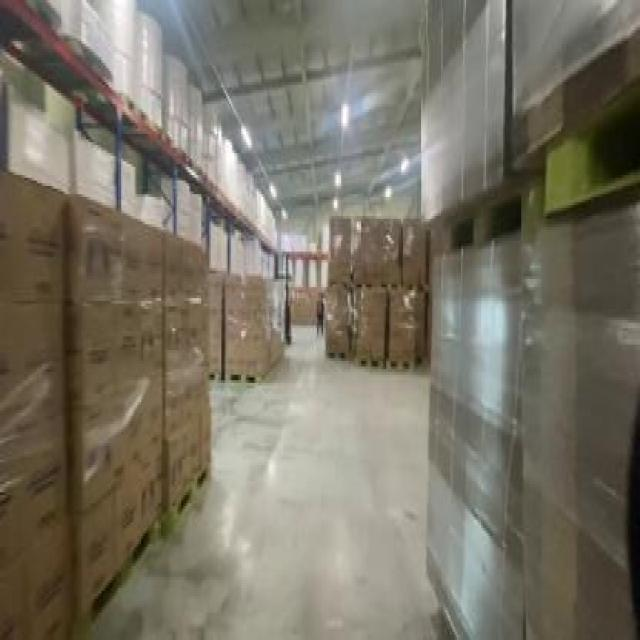box: (423, 211, 639, 637), (412, 3, 637, 216), (2, 159, 98, 629), (66, 205, 166, 596), (157, 222, 223, 544), (326, 222, 434, 372)
white_roll: (8, 74, 120, 216), (134, 8, 189, 153), (58, 3, 136, 104), (120, 137, 175, 235), (231, 153, 283, 246), (189, 90, 234, 194), (175, 175, 208, 252), (231, 230, 277, 284), (203, 211, 231, 276), (280, 227, 331, 252), (282, 260, 329, 284)
